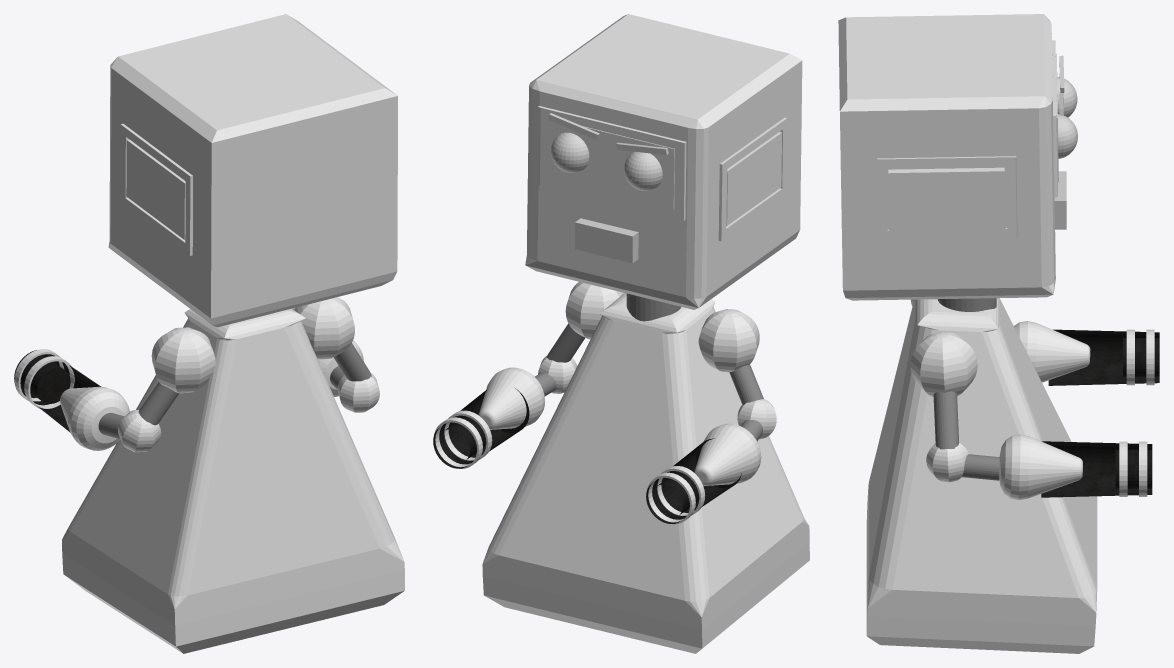
The model's file is robothover.fbx.
3 views of the same model, side by side, from view 1: azimuth 30°, elevation 25°; view 2: azimuth 150°, elevation 25°; view 3: azimuth 270°, elevation 25° (orthographic). The views are drawn at different scales.
Visible parts, largest first — view 1: RobotBody.001, RobotHead.001, RobotLEar.001, RobotLShoulder.001, CannonJointL, RobotLEarTrim.001, RobotRShoulder.001, RobotMouth.001, RobotLElbow.001, RobotRElbow.001, RobotULArm.001, RobotURArm.001 (+1 smaller); view 2: RobotBody.001, RobotHead.001, RobotEyeFrame.001, RobotEyeTrim.001, CannonJointL, RobotLEar.001, CannonJointR, RobotLShoulder.001, RobotLEarTrim.001, RobotMouth, RobotMouth.001, Robot Mouth (+12 smaller); view 3: RobotBody.001, RobotHead.001, RobotREar.001, RobotREarTrim.001, CannonJointR, RobotMouth, RobotMouth.001, RobotRShoulder.001, CannonJointL, RobotURArm.001, RobotRElbow.001, RobotURArm.002 (+9 smaller).
Part boxes in pixels (x1,y1,x2,y2): RobotBody.001: [62, 308, 404, 653]; RobotHead.001: [108, 14, 397, 327]; RobotLEar.001: [126, 139, 185, 239]; RobotLShoulder.001: [151, 327, 215, 393]; CannonJointL: [60, 386, 129, 450]; RobotLEarTrim.001: [120, 123, 192, 255]; RobotRShoulder.001: [294, 297, 354, 359]; RobotMouth.001: [14, 350, 101, 431]; RobotLElbow.001: [117, 410, 161, 452]; RobotRElbow.001: [337, 373, 379, 412]; RobotULArm.001: [138, 382, 178, 425]; RobotURArm.001: [333, 343, 371, 381]; RobotBody.001: [482, 293, 809, 653]; RobotHead.001: [525, 14, 802, 309]; RobotEyeFrame.001: [546, 118, 674, 209]; RobotEyeTrim.001: [537, 106, 686, 220]; CannonJointL: [694, 423, 761, 485]; RobotLEar.001: [726, 132, 781, 225]; CannonJointR: [478, 367, 544, 429]; RobotLShoulder.001: [698, 309, 759, 372]; RobotLEarTrim.001: [718, 117, 787, 241]; RobotMouth: [433, 388, 529, 468]; RobotMouth.001: [646, 438, 741, 523]; Robot Mouth: [575, 218, 638, 263]; RobotBody.001: [866, 298, 1097, 653]; RobotHead.001: [838, 14, 1055, 300]; RobotREar.001: [888, 167, 1005, 230]; RobotREarTrim.001: [877, 156, 1017, 240]; CannonJointR: [999, 434, 1082, 499]; RobotMouth: [1041, 441, 1152, 497]; RobotMouth.001: [1048, 329, 1159, 385]; RobotRShoulder.001: [910, 331, 977, 396]; CannonJointL: [1014, 321, 1090, 382]; RobotURArm.001: [933, 391, 959, 449]; RobotRElbow.001: [926, 442, 968, 482]; RobotURArm.002: [962, 454, 999, 480].
Size of the model in its own units: 156 by 150 by 283.
Materials: 7 (1 with a texture image).
